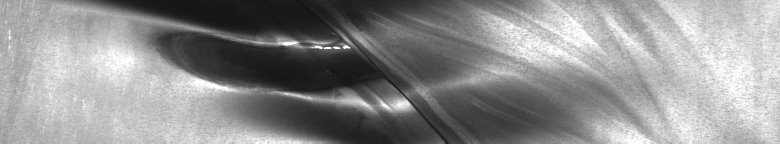ke: (101, 4, 476, 136)
